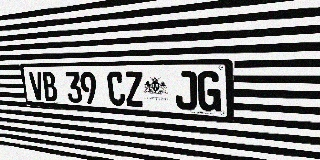3: (65, 71, 83, 103)
9: (79, 71, 98, 104)
B: (41, 72, 58, 102)
C: (106, 71, 126, 106)
G: (197, 71, 221, 112)
J: (175, 71, 197, 111)
V: (29, 72, 45, 101)
Z: (124, 71, 144, 107)
